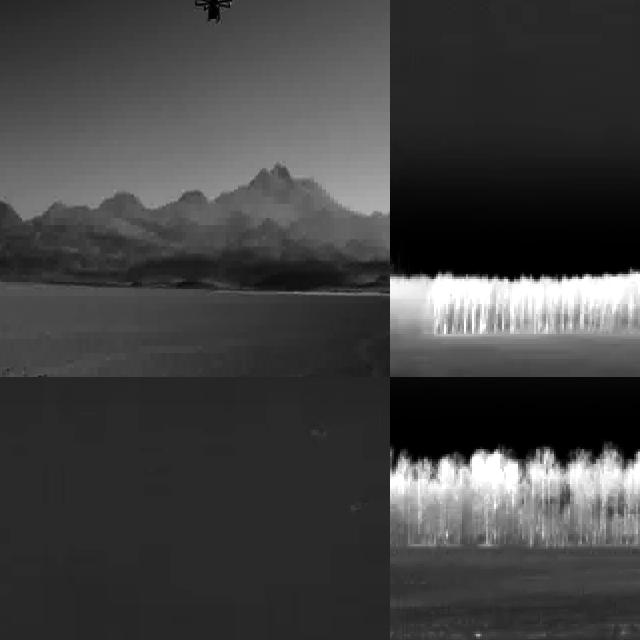0: (344, 497, 372, 525), (307, 425, 331, 447)
drone: (190, 0, 237, 29)
